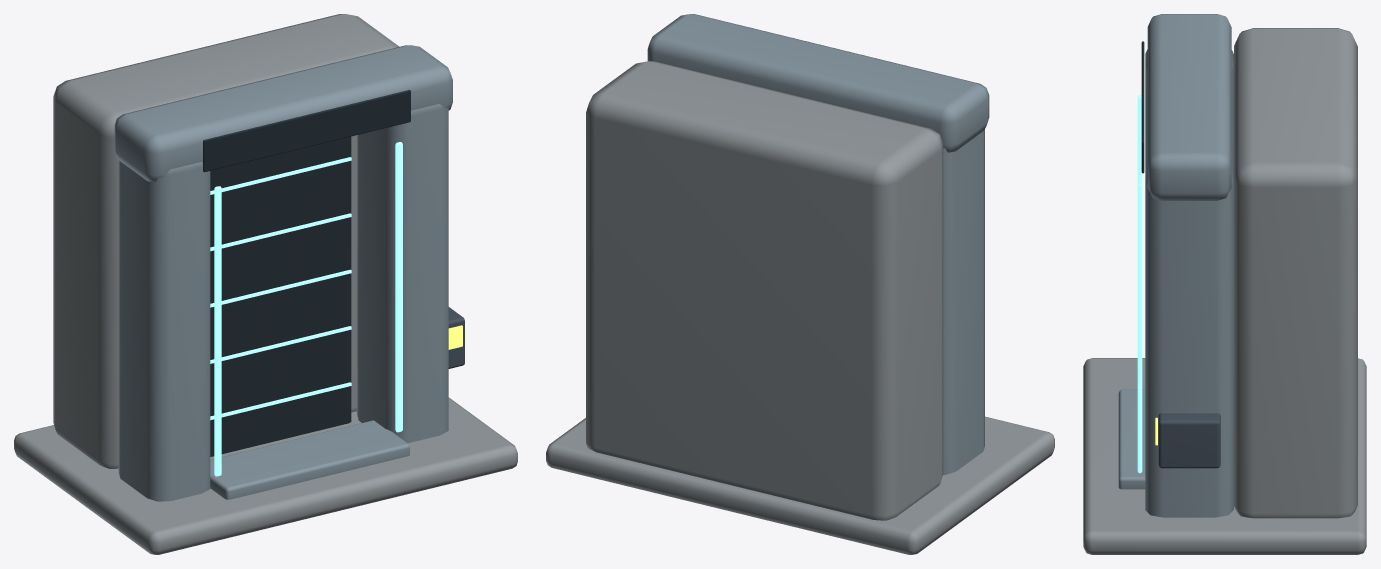
The model's file is Whompah.fbx.
3 renders of one model, left to right at view 1: azimuth 30°, elevation 25°; view 2: azimuth 150°, elevation 25°; view 3: azimuth 270°, elevation 25°, orthographic.
Visible parts, largest first — view 1: Whompah_Steel, Whompah_Concrete, Whompah_Dark, Whompah_Cyan, Whompah_Graphite; view 2: Whompah_Concrete, Whompah_Steel; view 3: Whompah_Concrete, Whompah_Steel, Whompah_Graphite, Whompah_Cyan, Whompah_Dark.
Part boxes in pixels (<box>): Whompah_Steel: <box>114,45,452,501</box>; Whompah_Concrete: <box>14,14,517,554</box>; Whompah_Dark: <box>203,90,410,456</box>; Whompah_Cyan: <box>210,142,402,476</box>; Whompah_Graphite: <box>448,307,464,368</box>; Whompah_Concrete: <box>546,61,1054,554</box>; Whompah_Steel: <box>647,14,989,474</box>; Whompah_Concrete: <box>1083,28,1366,554</box>; Whompah_Steel: <box>1118,14,1233,517</box>; Whompah_Graphite: <box>1158,413,1220,468</box>; Whompah_Cyan: <box>1137,95,1142,473</box>; Whompah_Dark: <box>1141,41,1144,173</box>.
Bounding box in the file's own units: 480 × 480 × 320.
